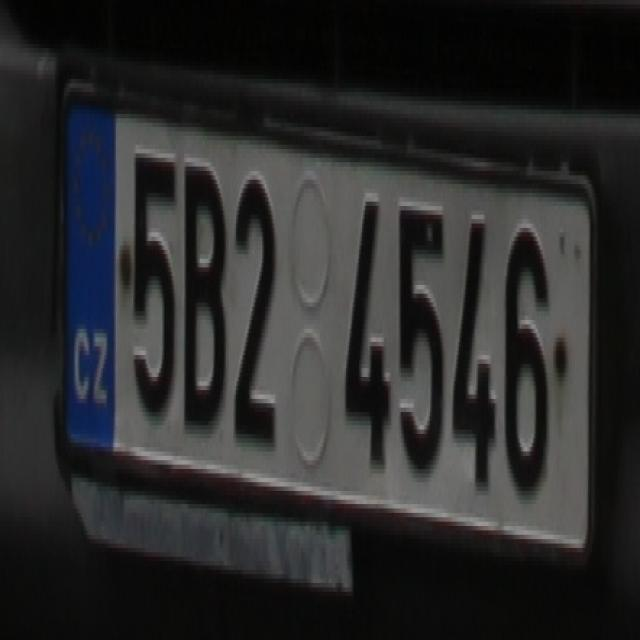2: (232, 166, 275, 442)
4: (342, 184, 394, 478), (452, 202, 499, 478)
5: (128, 140, 180, 421), (394, 197, 446, 469)
6: (505, 228, 552, 491)
B: (180, 149, 224, 425)
